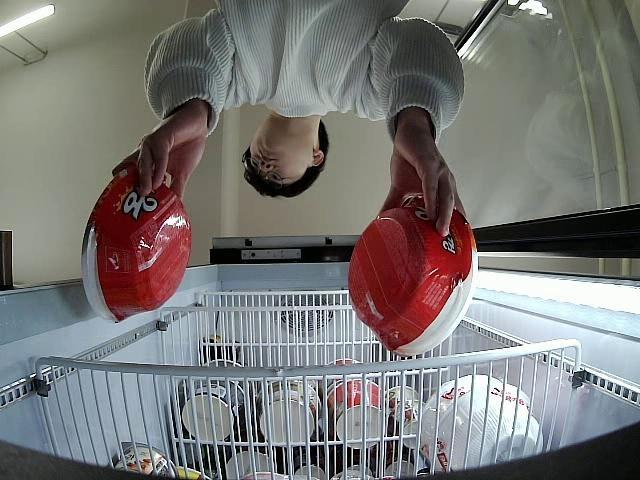10_wangTtukkeong: (347, 196, 478, 356), (81, 167, 192, 322)
